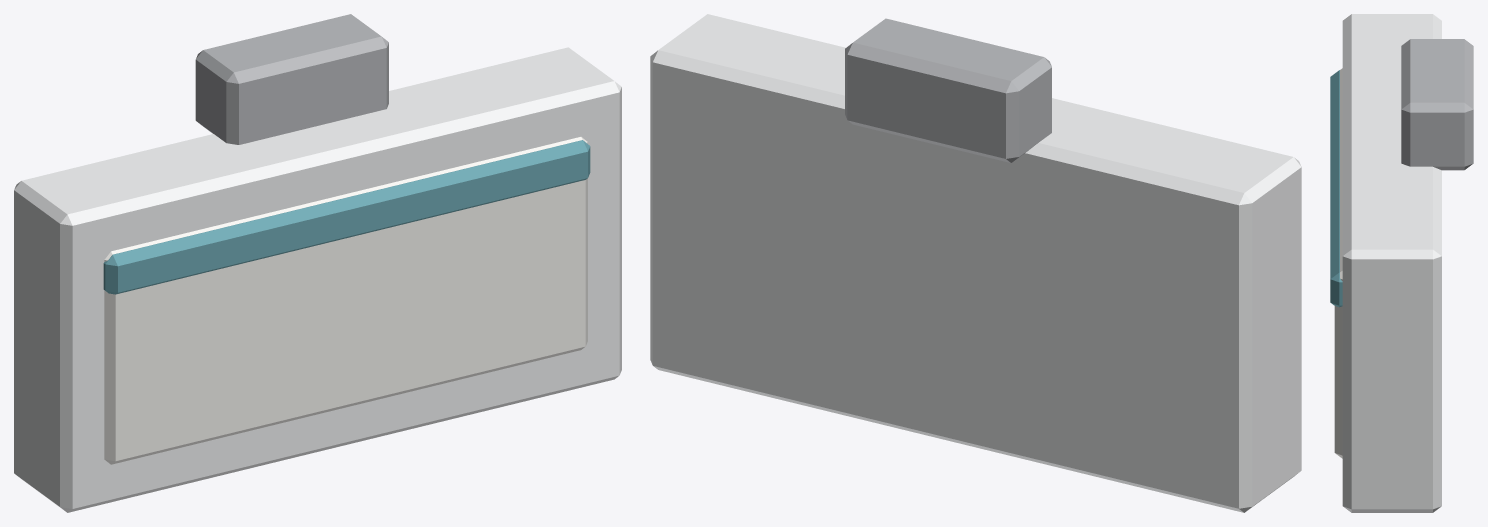
Rendered from prop_price_tag_01.glb.
The picture shows the model from 3 angles, left to right: view 1: azimuth 30°, elevation 25°; view 2: azimuth 150°, elevation 25°; view 3: azimuth 270°, elevation 25°; orthographic projection. The views are drawn at different scales.
Parts seen in each view (by area): view 1: prop_price_tag_01; view 2: prop_price_tag_01; view 3: prop_price_tag_01.
Part boxes in pixels (x1,y1,x2,y2): prop_price_tag_01: (14,14,621,512); prop_price_tag_01: (650,14,1301,512); prop_price_tag_01: (1330,14,1473,512).
Bounding box in the file's own units: 0.08 × 0.05 × 0.02.
